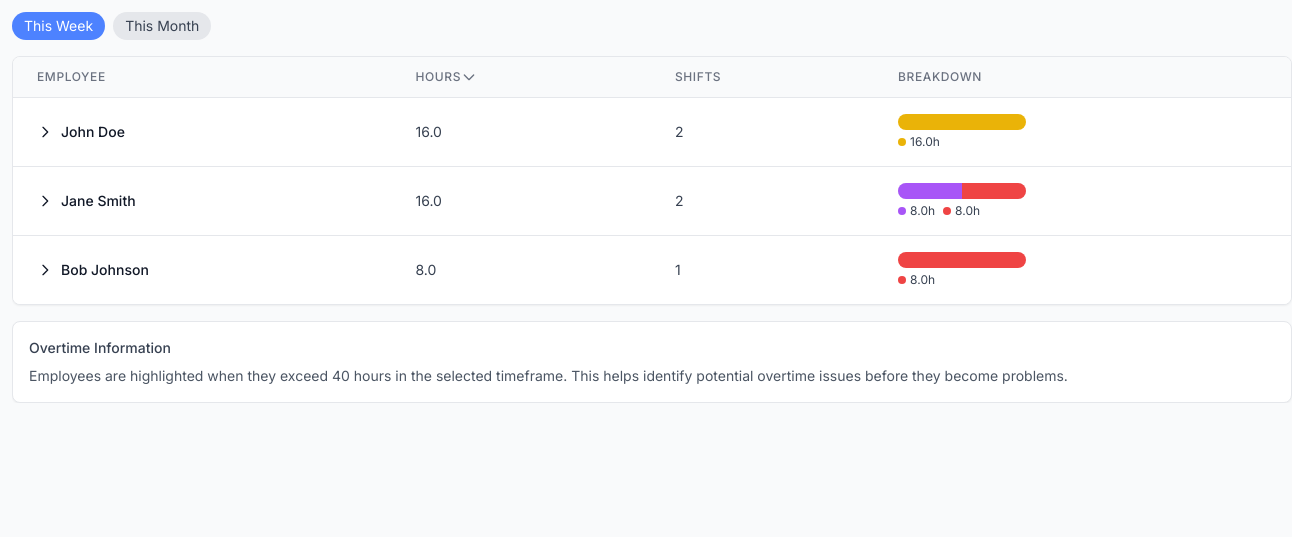
EmployeeHoursView Component › Expandable Employee Details › should expand employee details when name is clicked
Click the text "John Doe" at [81, 132], box [37,123,125,140]
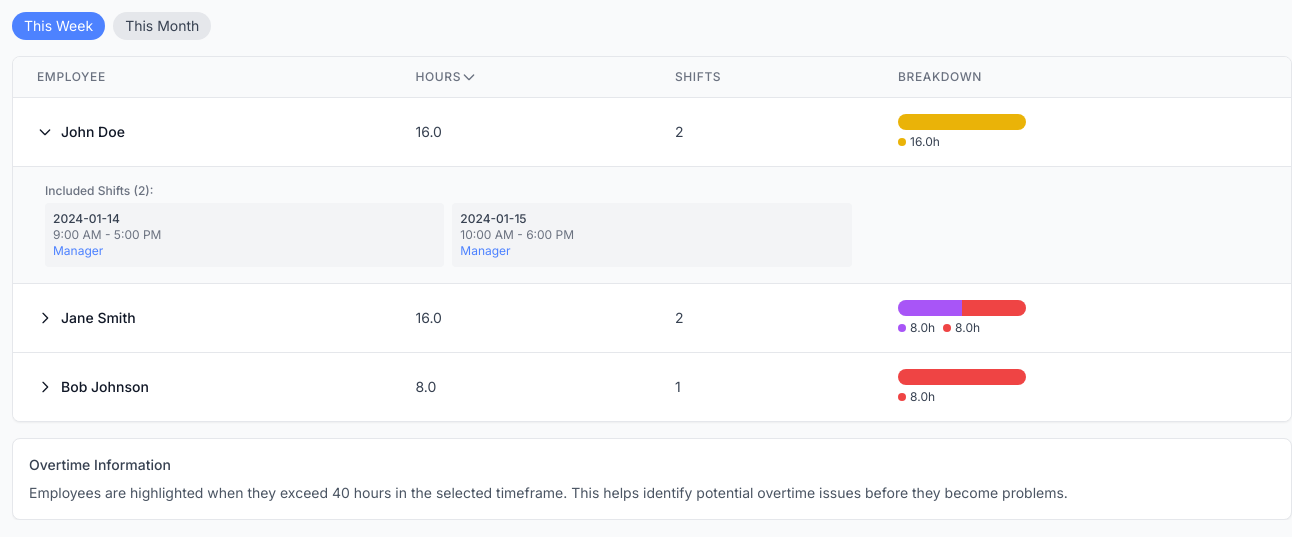
Check: the text "Included Shifts (2):" is shown, box [45,183,153,198]
